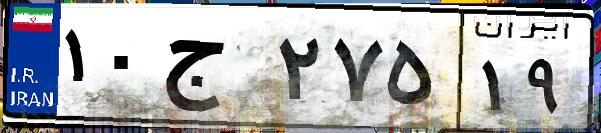0: (110, 28, 158, 98)
1: (57, 26, 110, 100), (475, 38, 525, 113)
2: (270, 28, 330, 110)
5: (385, 28, 445, 110)
7: (330, 28, 385, 110)
9: (525, 38, 570, 115)
ج: (158, 20, 270, 120)
